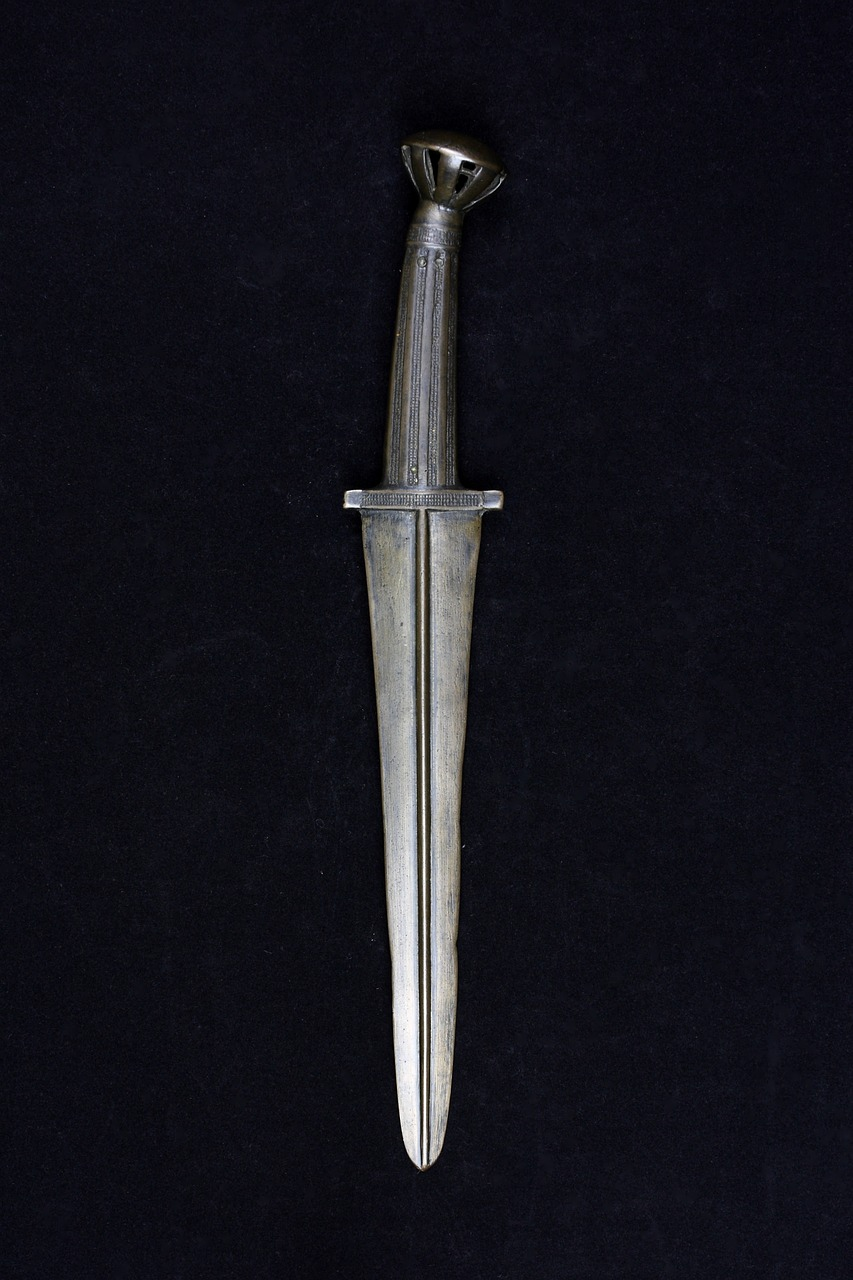knife: (333, 128, 508, 1176)
